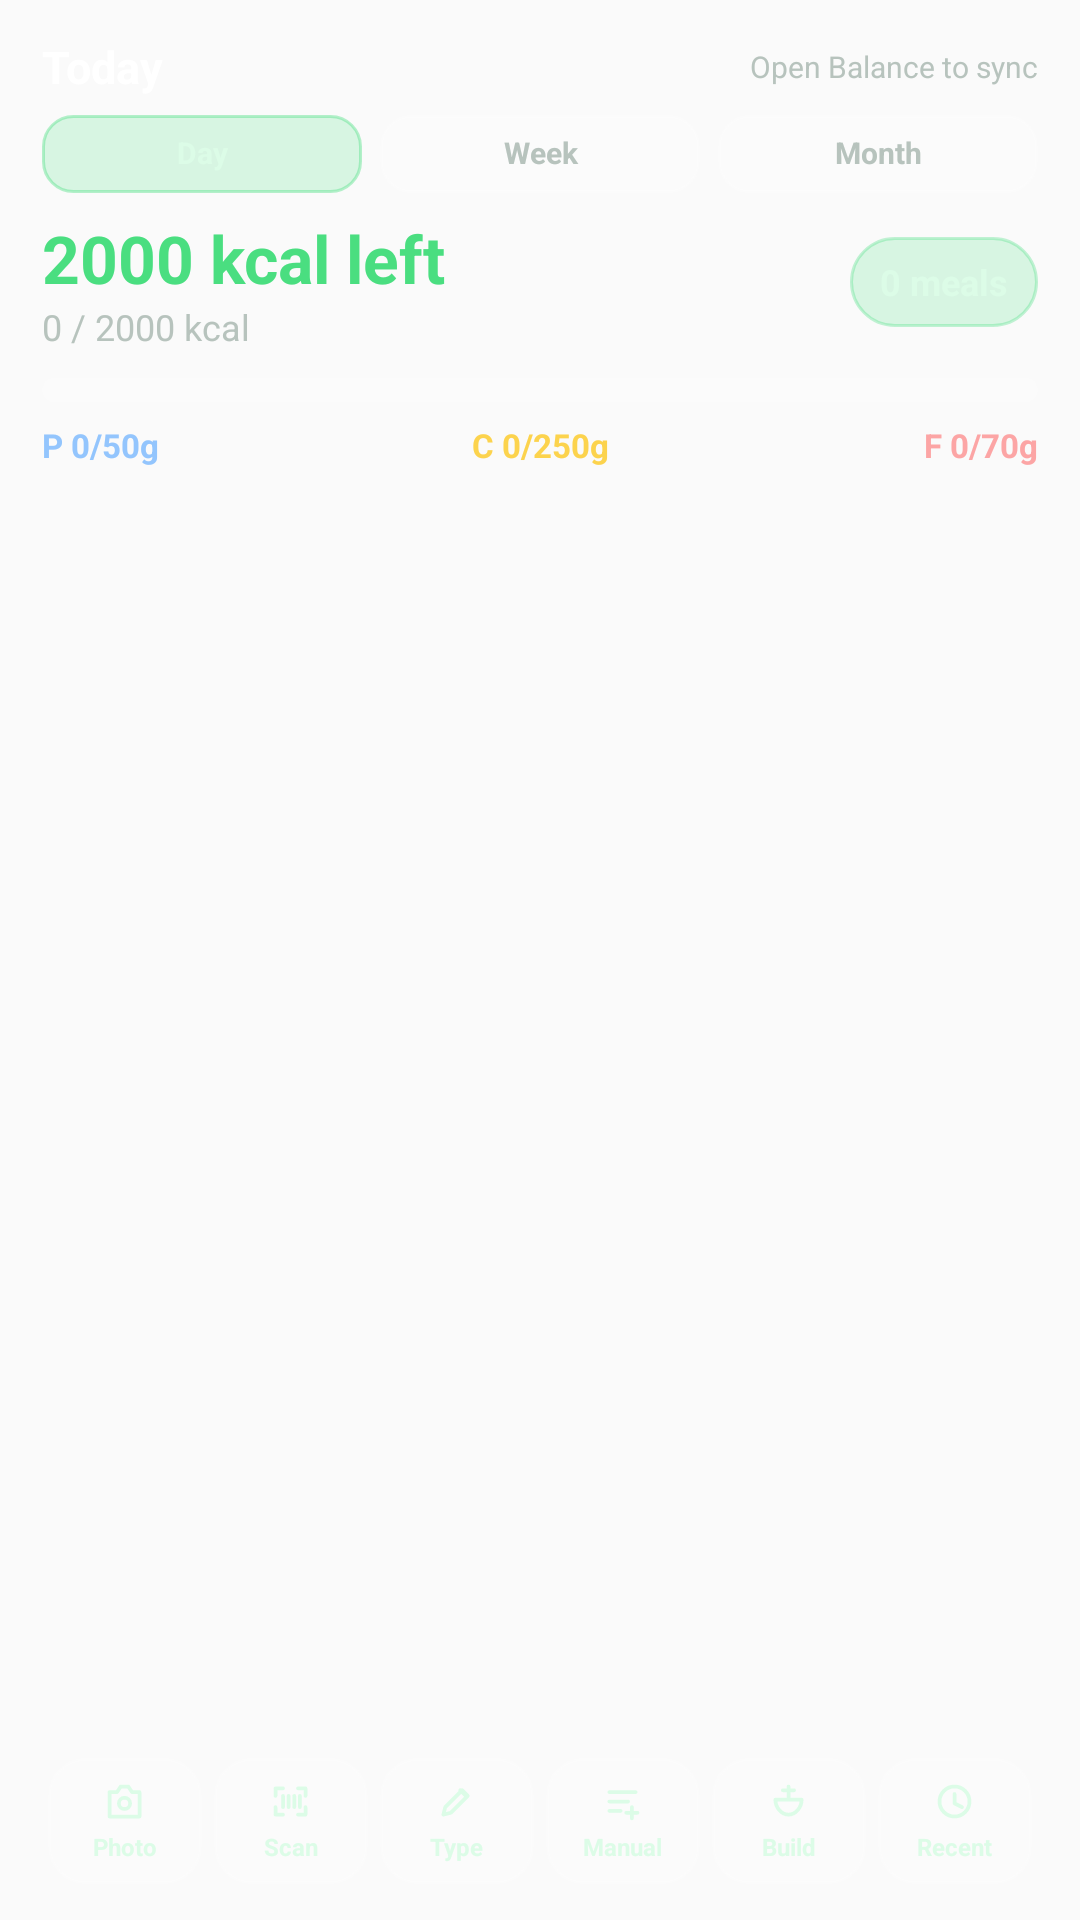

Screen size 1080px x 1920px. Icon name, then its center in pixels as point (x, y):
widget barcode: point (290, 1801)
widget camera: point (124, 1801)
widget text: point (455, 1802)
